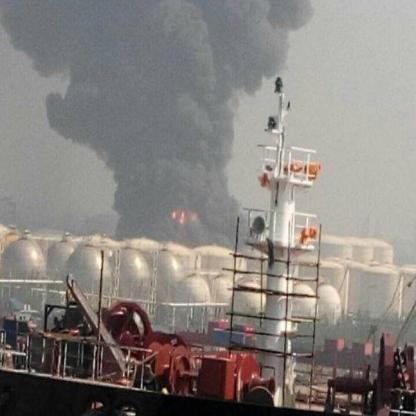smoke: (0, 0, 311, 63), (39, 63, 235, 149), (102, 148, 236, 242)
